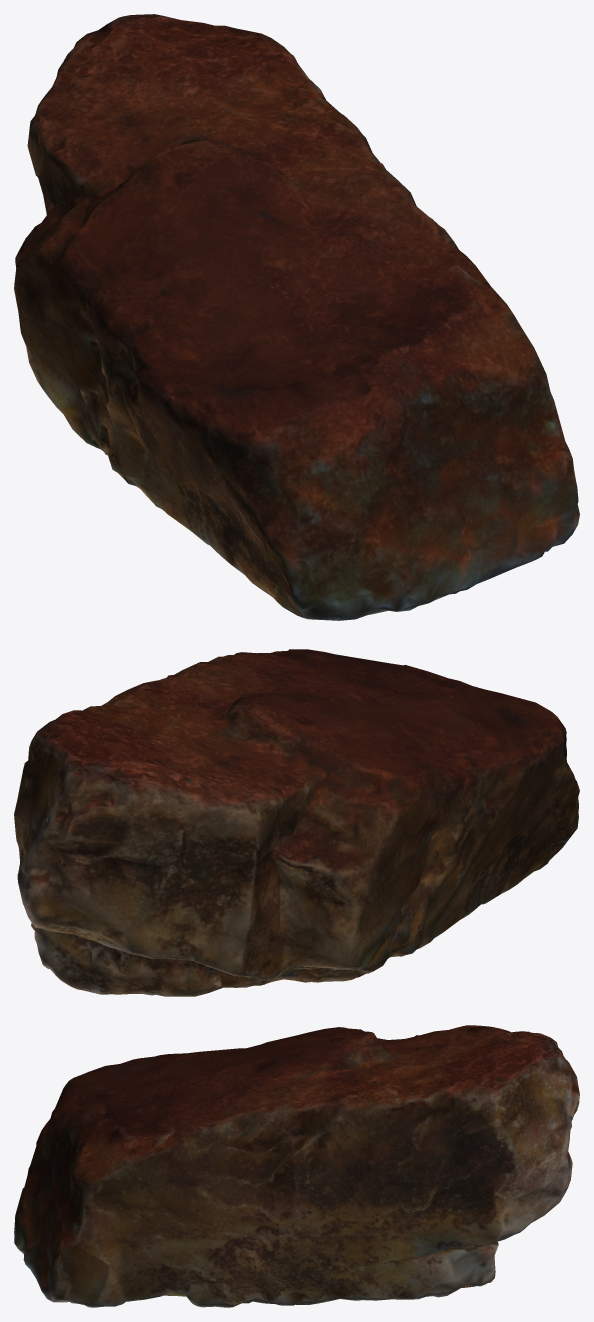
The model's file is rock_07.glb.
3 renders of one model, top to bottom at view 1: azimuth 30°, elevation 25°; view 2: azimuth 150°, elevation 25°; view 3: azimuth 270°, elevation 25°, orthographic. The views are drawn at different scales.
Parts seen in each view (by area): view 1: rock_07; view 2: rock_07; view 3: rock_07.
Part boxes in pixels (x1,y1,x2,y2): rock_07: [14, 14, 579, 620]; rock_07: [14, 649, 579, 996]; rock_07: [14, 1025, 579, 1307].
Size of the model in its own units: 0.1689 by 0.1437 by 0.3202.
Materials: 1 (1 with a texture image).
